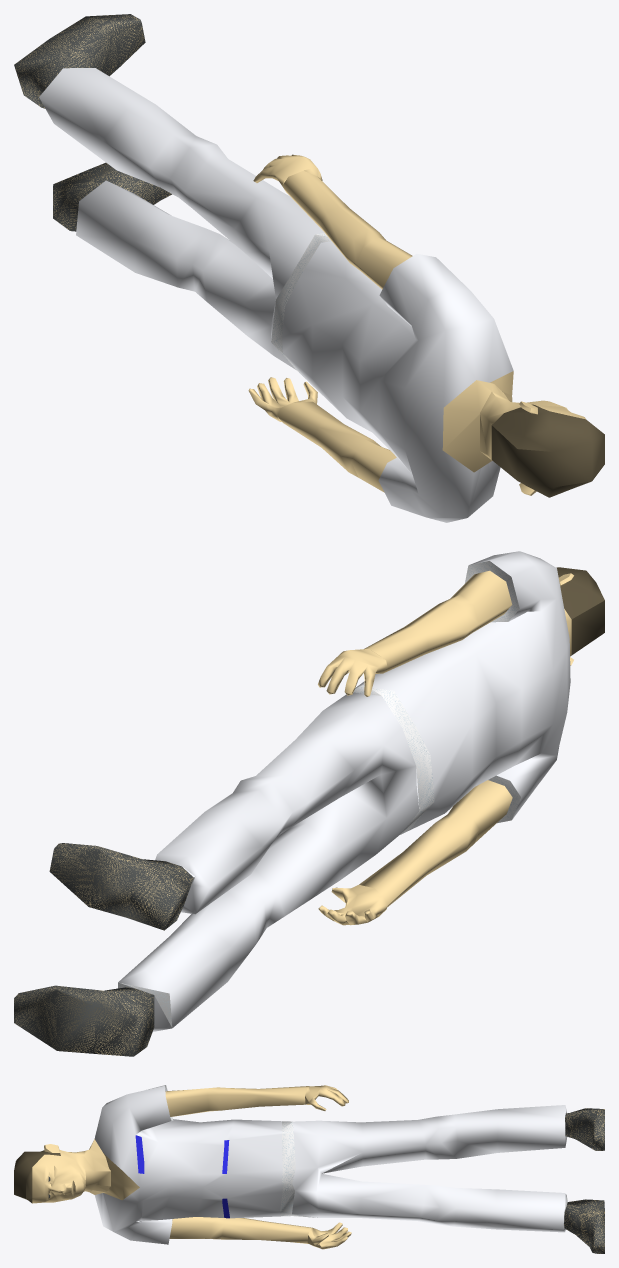
File: technician.dae
3 renders of one model, top to bottom at view 1: azimuth 30°, elevation 25°; view 2: azimuth 150°, elevation 25°; view 3: azimuth 270°, elevation 25°, orthographic. The views are drawn at different scales.
Visible parts, largest first — view 1: coords_ME_ID25_MA_material_0, coords_ME_ID17_MA_material_0, coords_ME_ID55_MA_material_4, coords_ME_ID151_MA_material, coords_ME_ID89_MA_material_6, coords_ME_ID11_MA_material, coords_ME_ID3_MA_material, coords_ME_ID99_MA_material_6, coords_ME_ID89_MA_material_7, coords_ME_ID205_MA_material_2, coords_ME_ID99_MA_material_7; view 2: coords_ME_ID17_MA_material_0, coords_ME_ID25_MA_material_0, coords_ME_ID99_MA_material_6, coords_ME_ID11_MA_material, coords_ME_ID89_MA_material_6, coords_ME_ID151_MA_material, coords_ME_ID55_MA_material_4, coords_ME_ID89_MA_material_7, coords_ME_ID99_MA_material_7, coords_ME_ID205_MA_material_2, coords_ME_ID175_MA_material_2, coords_ME_ID205_MA_material_3; view 3: coords_ME_ID17_MA_material_0, coords_ME_ID25_MA_material_0, coords_ME_ID3_MA_material, coords_ME_ID151_MA_material, coords_ME_ID11_MA_material, coords_ME_ID99_MA_material_6, coords_ME_ID89_MA_material_6, coords_ME_ID205_MA_material_2, coords_ME_ID55_MA_material_4, coords_ME_ID99_MA_material_7, coords_ME_ID89_MA_material_7, coords_ME_ID205_MA_material_3 (+1 smaller).
Boxes of the visible parts, left/top/right/bottom form: coords_ME_ID25_MA_material_0: left=282, top=241, right=513, bottom=522; coords_ME_ID17_MA_material_0: left=39, top=68, right=324, bottom=369; coords_ME_ID55_MA_material_4: left=491, top=404, right=604, bottom=497; coords_ME_ID151_MA_material: left=253, top=154, right=412, bottom=289; coords_ME_ID89_MA_material_6: left=14, top=14, right=145, bottom=108; coords_ME_ID11_MA_material: left=248, top=377, right=396, bottom=492; coords_ME_ID3_MA_material: left=442, top=371, right=585, bottom=495; coords_ME_ID99_MA_material_6: left=53, top=162, right=171, bottom=231; coords_ME_ID89_MA_material_7: left=15, top=15, right=144, bottom=107; coords_ME_ID205_MA_material_2: left=271, top=233, right=331, bottom=378; coords_ME_ID99_MA_material_7: left=53, top=163, right=170, bottom=228; coords_ME_ID17_MA_material_0: left=118, top=692, right=419, bottom=1031; coords_ME_ID25_MA_material_0: left=358, top=551, right=570, bottom=830; coords_ME_ID99_MA_material_6: left=14, top=985, right=154, bottom=1056; coords_ME_ID11_MA_material: left=318, top=780, right=512, bottom=925; coords_ME_ID89_MA_material_6: left=49, top=843, right=193, bottom=930; coords_ME_ID151_MA_material: left=318, top=570, right=512, bottom=696; coords_ME_ID55_MA_material_4: left=556, top=567, right=604, bottom=656; coords_ME_ID89_MA_material_7: left=50, top=843, right=192, bottom=929; coords_ME_ID99_MA_material_7: left=14, top=986, right=153, bottom=1055; coords_ME_ID205_MA_material_2: left=353, top=685, right=434, bottom=834; coords_ME_ID175_MA_material_2: left=464, top=561, right=519, bottom=622; coords_ME_ID205_MA_material_3: left=354, top=685, right=434, bottom=834; coords_ME_ID17_MA_material_0: left=292, top=1105, right=567, bottom=1232; coords_ME_ID25_MA_material_0: left=94, top=1085, right=282, bottom=1244; coords_ME_ID3_MA_material: left=32, top=1139, right=139, bottom=1203; coords_ME_ID151_MA_material: left=165, top=1085, right=348, bottom=1116; coords_ME_ID11_MA_material: left=169, top=1217, right=351, bottom=1249; coords_ME_ID99_MA_material_6: left=564, top=1199, right=604, bottom=1253; coords_ME_ID89_MA_material_6: left=565, top=1108, right=604, bottom=1150; coords_ME_ID205_MA_material_2: left=280, top=1121, right=317, bottom=1217; coords_ME_ID55_MA_material_4: left=14, top=1150, right=60, bottom=1202; coords_ME_ID99_MA_material_7: left=564, top=1200, right=604, bottom=1253; coords_ME_ID89_MA_material_7: left=565, top=1108, right=604, bottom=1150; coords_ME_ID205_MA_material_3: left=280, top=1121, right=313, bottom=1217.
Bounding box in the file's own units: 3.69 × 5.64 × 18.63.
